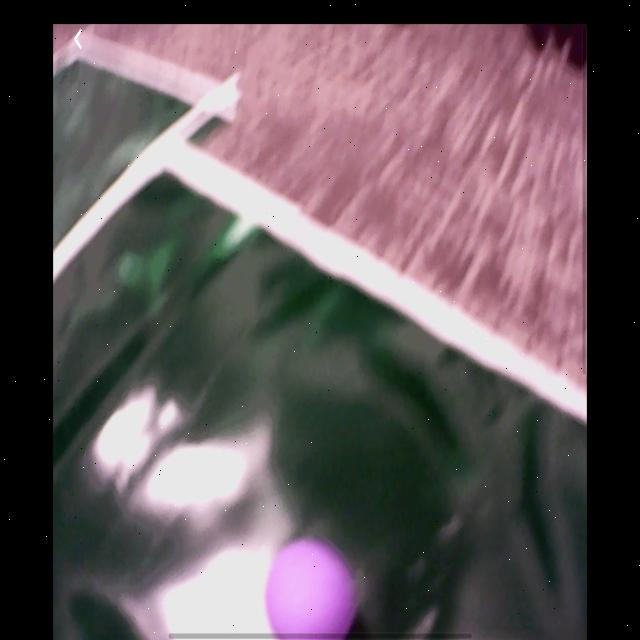ball: (264, 536, 360, 639)
